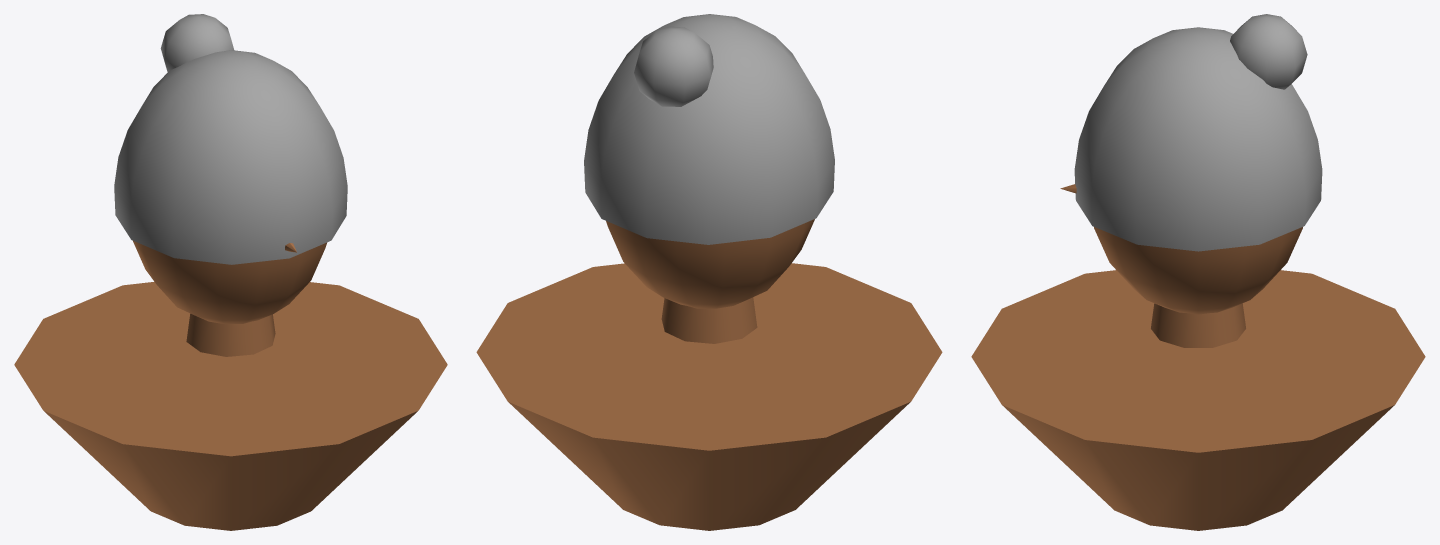
The model's file is portrait12w_001.glb.
The picture shows the model from 3 angles, left to right: view 1: azimuth 30°, elevation 25°; view 2: azimuth 150°, elevation 25°; view 3: azimuth 270°, elevation 25°; orthographic projection. The views are drawn at different scales.
Size of the model in its own units: 2 by 2.29 by 2.
